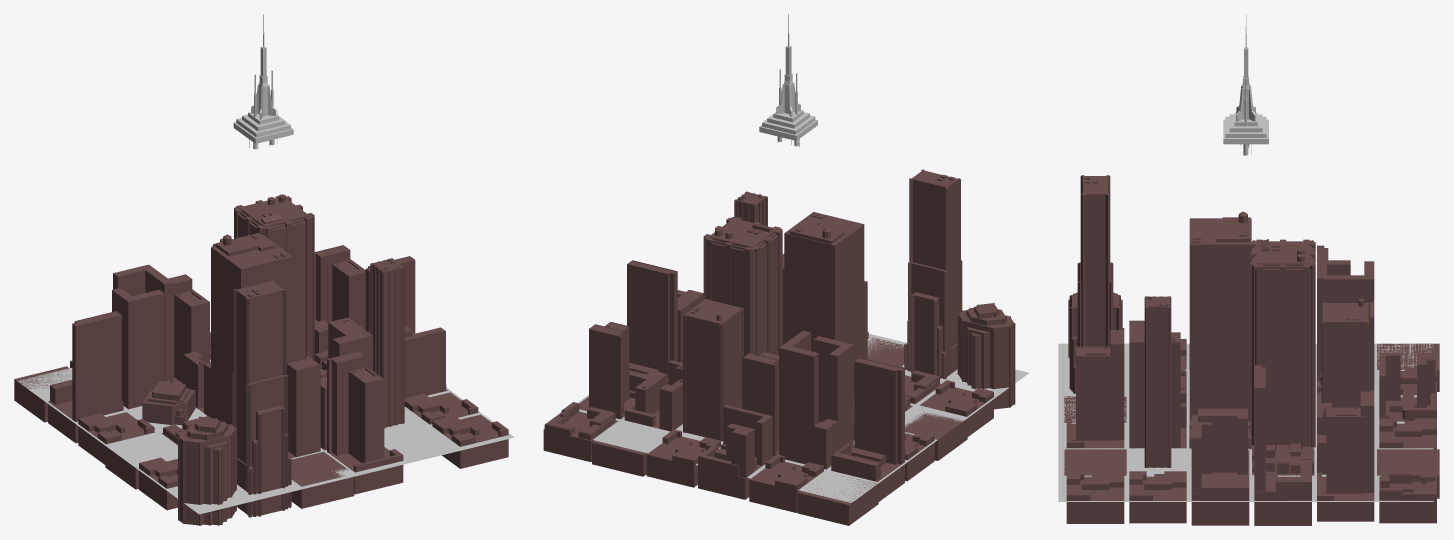
3 renders of one model, left to right at view 1: azimuth 30°, elevation 25°; view 2: azimuth 150°, elevation 25°; view 3: azimuth 270°, elevation 25°, orthographic. The views are drawn at different scales.
Visible parts, largest first — view 1: Mograph_City_Rig, City-Plane, Xtra.1_4; view 2: Mograph_City_Rig, City-Plane, Xtra.1_4; view 3: Mograph_City_Rig, City-Plane, Xtra.1_4.
Boxes of the visible parts, box(x1,y1,x2,y2) form: Mograph_City_Rig: box(14, 194, 508, 525); City-Plane: box(17, 359, 514, 514); Xtra.1_4: box(233, 14, 293, 143); Mograph_City_Rig: box(543, 169, 1015, 525); City-Plane: box(543, 333, 1029, 502); Xtra.1_4: box(759, 14, 817, 140); Mograph_City_Rig: box(1064, 175, 1439, 525); City-Plane: box(1058, 343, 1433, 501); Xtra.1_4: box(1223, 14, 1268, 144).
Size of the model in its own units: 3005 by 3815 by 3046.
